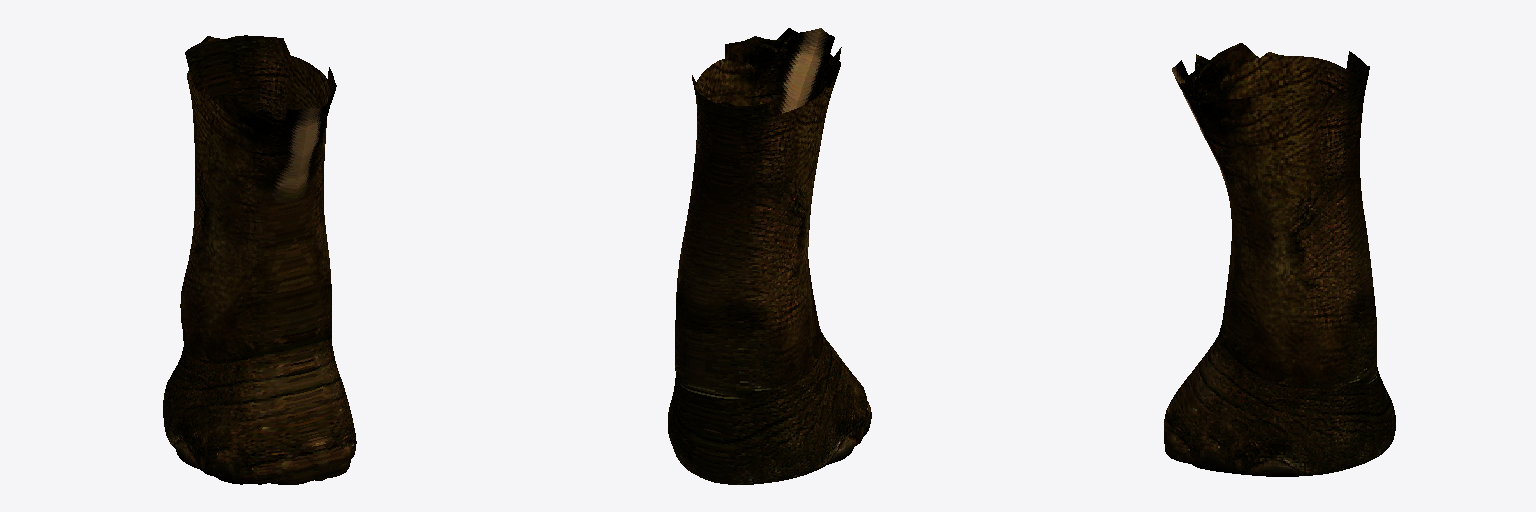
The picture shows the model from 3 angles: view 1: azimuth 30°, elevation 25°; view 2: azimuth 150°, elevation 25°; view 3: azimuth 270°, elevation 25°; orthographic projection.
Parts seen in each view (by area): view 1: ele_lower_rear_right; view 2: ele_lower_rear_right; view 3: ele_lower_rear_right.
Part boxes in pixels (bbox=[...]): ele_lower_rear_right: bbox=[163, 35, 356, 484]; ele_lower_rear_right: bbox=[668, 28, 871, 484]; ele_lower_rear_right: bbox=[1164, 43, 1395, 476].
Size of the model in its own units: 993 by 2294 by 1286.
Materials: 1 (1 with a texture image).